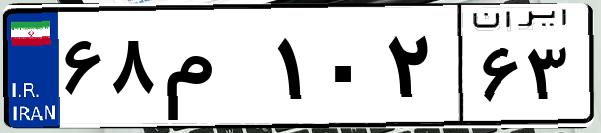0: (330, 28, 385, 110)
1: (270, 28, 330, 110)
2: (385, 28, 445, 110)
3: (525, 38, 570, 115)
6: (57, 26, 110, 100), (475, 38, 525, 113)
8: (110, 28, 158, 98)
م: (158, 20, 270, 120)
